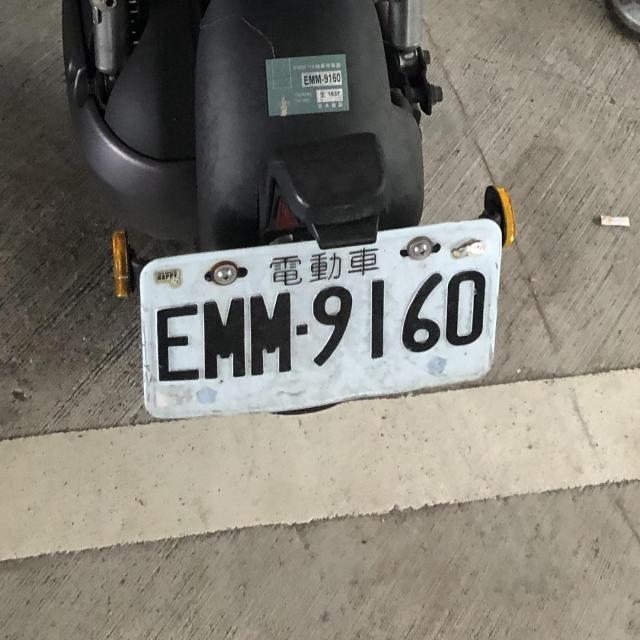W: (127, 216, 517, 431), (299, 64, 346, 90)
